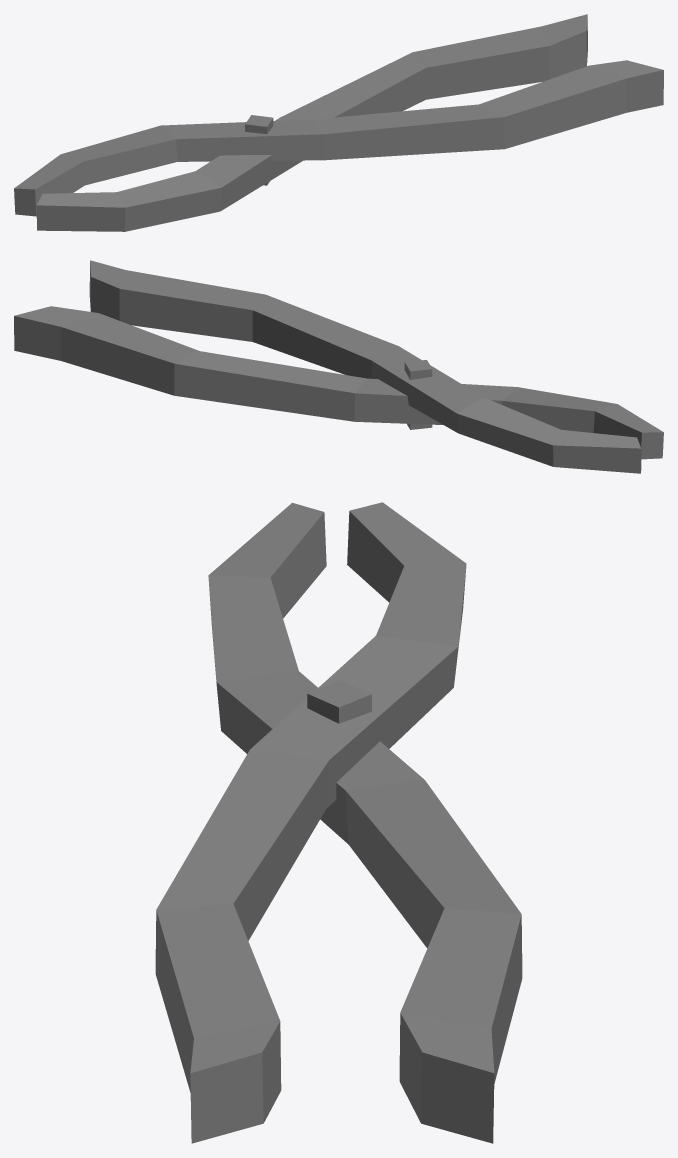
The model's file is Forge_Tong.gltf.
3 renders of one model, top to bottom at view 1: azimuth 30°, elevation 25°; view 2: azimuth 150°, elevation 25°; view 3: azimuth 270°, elevation 25°, orthographic. The views are drawn at different scales.
Visible parts, largest first — view 1: Forge_Tong2; view 2: Forge_Tong2; view 3: Forge_Tong2.
Part boxes in pixels (left/top/right/bottom): Forge_Tong2: left=14, top=14, right=663, bottom=231; Forge_Tong2: left=14, top=260, right=663, bottom=473; Forge_Tong2: left=155, top=502, right=522, bottom=1143.
Bounding box in the file's own units: 0.1888 × 0.0176 × 0.05.
Materials: 1 (1 with a texture image).
